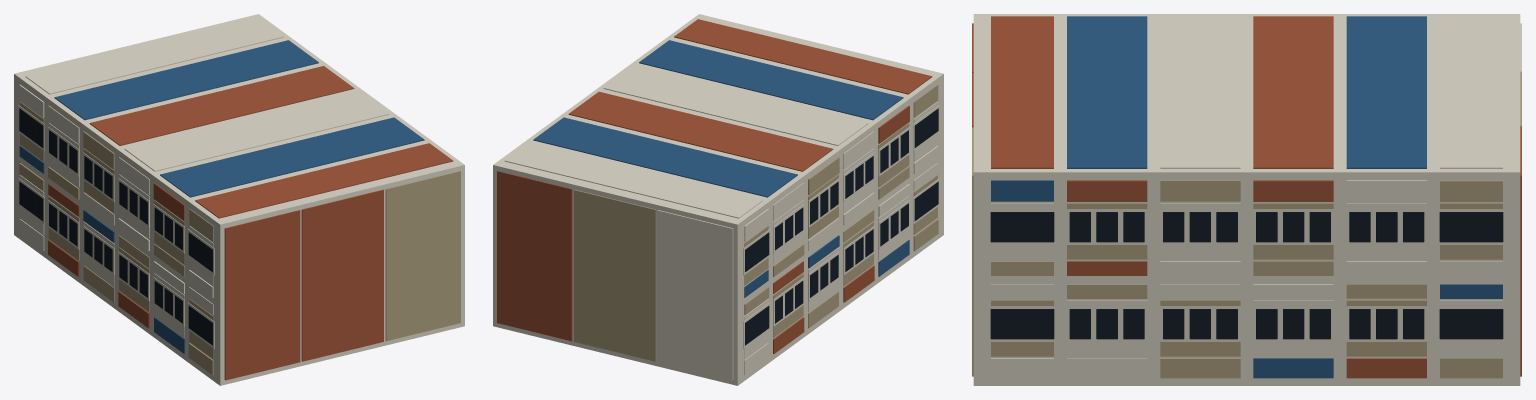
File: pax100_shell.obj
3 renders of one model, left to right at view 1: azimuth 30°, elevation 25°; view 2: azimuth 150°, elevation 25°; view 3: azimuth 270°, elevation 25°, orthographic. The views are drawn at different scales.
Visible parts, largest first — view 1: pax100_shell; view 2: pax100_shell; view 3: pax100_shell.
Part boxes in pixels (box(x1,y1,x2,y2)): pax100_shell: box(14, 14, 464, 385); pax100_shell: box(493, 14, 943, 385); pax100_shell: box(972, 14, 1521, 385).
Bounding box in the file's own units: 7.07 × 4.46 × 10.27.
